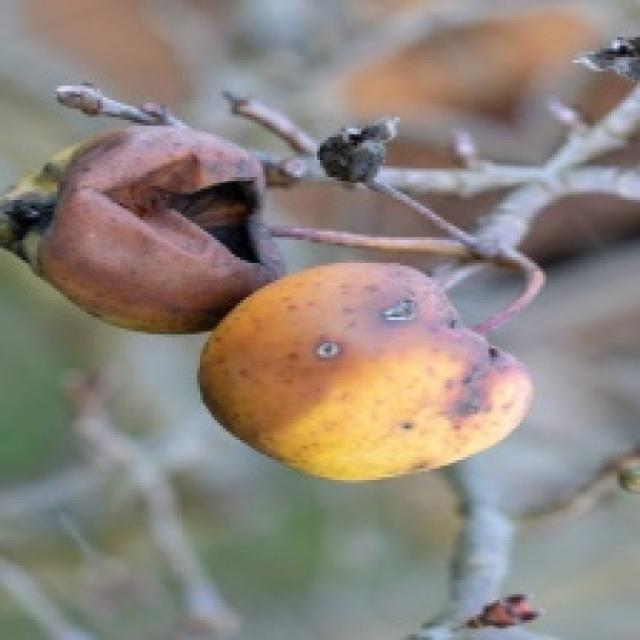rotten_apple: (204, 267, 530, 481), (2, 127, 216, 328)
